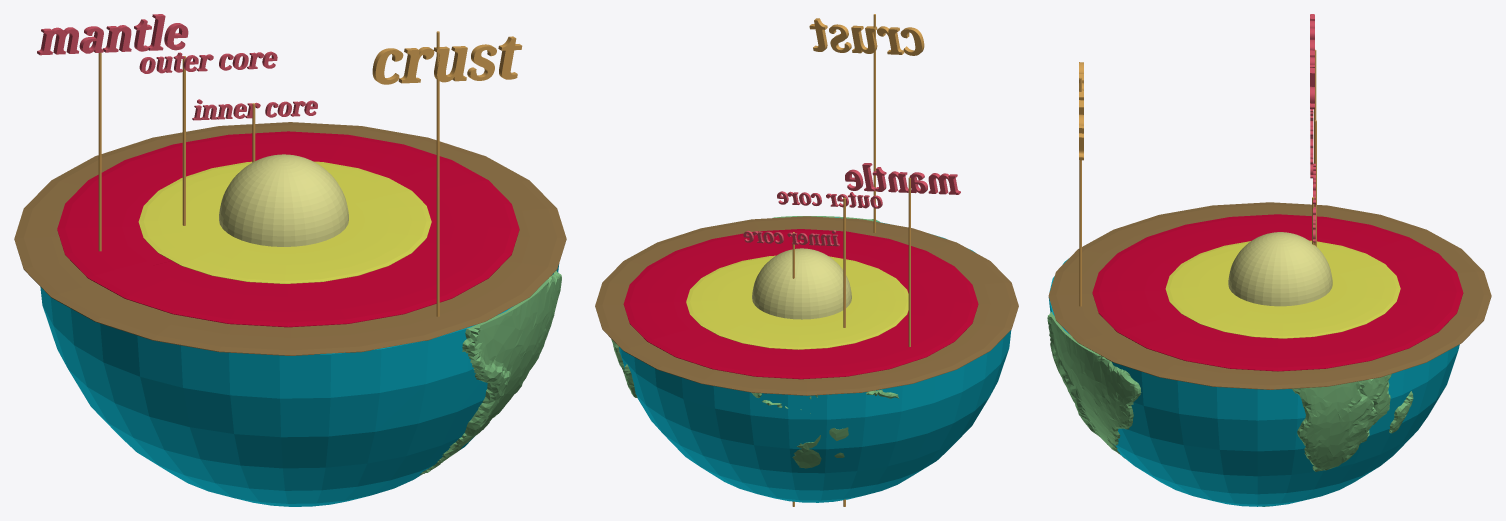
The model's file is asset.glb.
3 views of the same model, side by side, from view 1: azimuth 30°, elevation 25°; view 2: azimuth 150°, elevation 25°; view 3: azimuth 270°, elevation 25° (orthographic). The views are drawn at different scales.
Parts seen in each view (by area): view 1: Mesh_Mesh_head_geo.001_lambert2SG.001; view 2: Mesh_Mesh_head_geo.001_lambert2SG.001; view 3: Mesh_Mesh_head_geo.001_lambert2SG.001.
Boxes of the visible parts, <box> form: Mesh_Mesh_head_geo.001_lambert2SG.001: <box>14,14,566,506</box>; Mesh_Mesh_head_geo.001_lambert2SG.001: <box>595,14,1018,506</box>; Mesh_Mesh_head_geo.001_lambert2SG.001: <box>1047,14,1491,506</box>.
Size of the model in its own units: 84.8 by 89 by 85.02.
